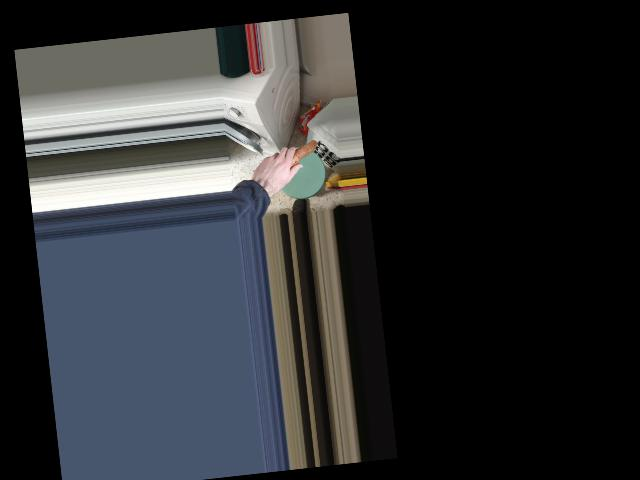sweet_potato: (264, 139, 319, 183)
